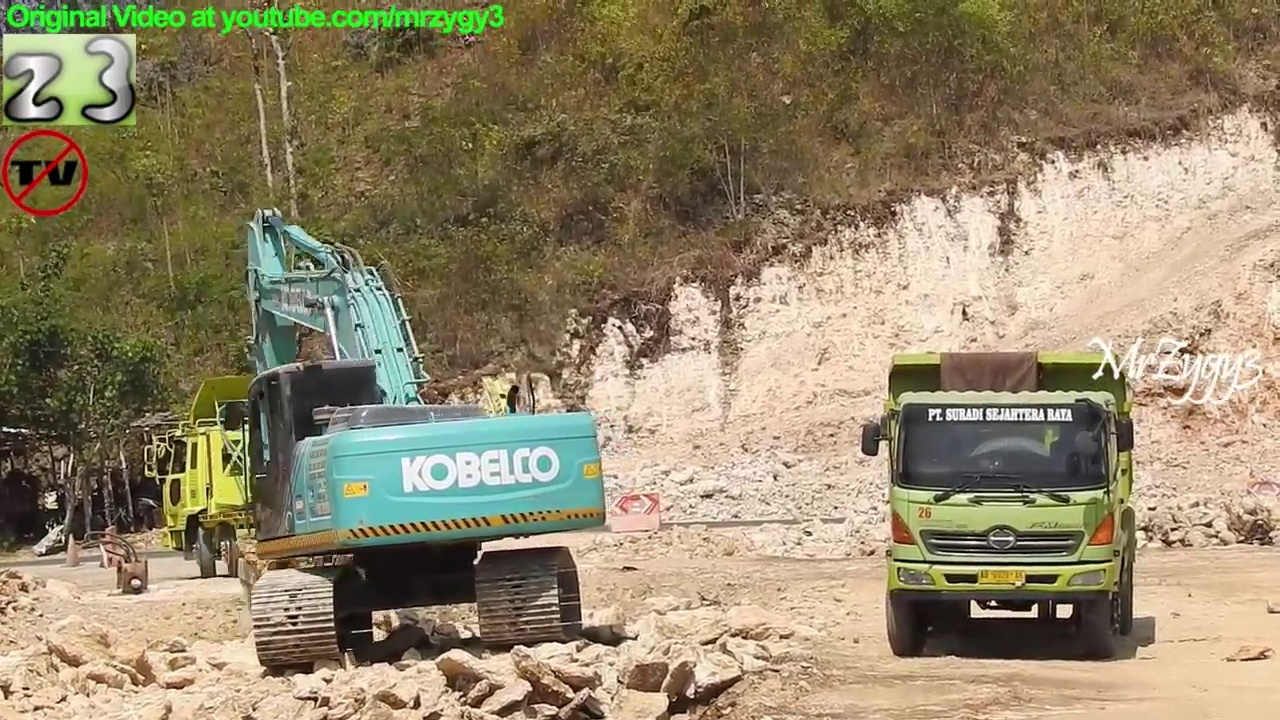excavator: (220, 200, 615, 681)
truck: (136, 368, 551, 586), (858, 348, 1143, 659)
